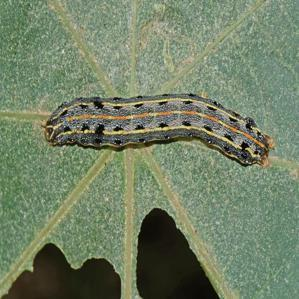Tobacco cutworm: (30, 66, 281, 189)
